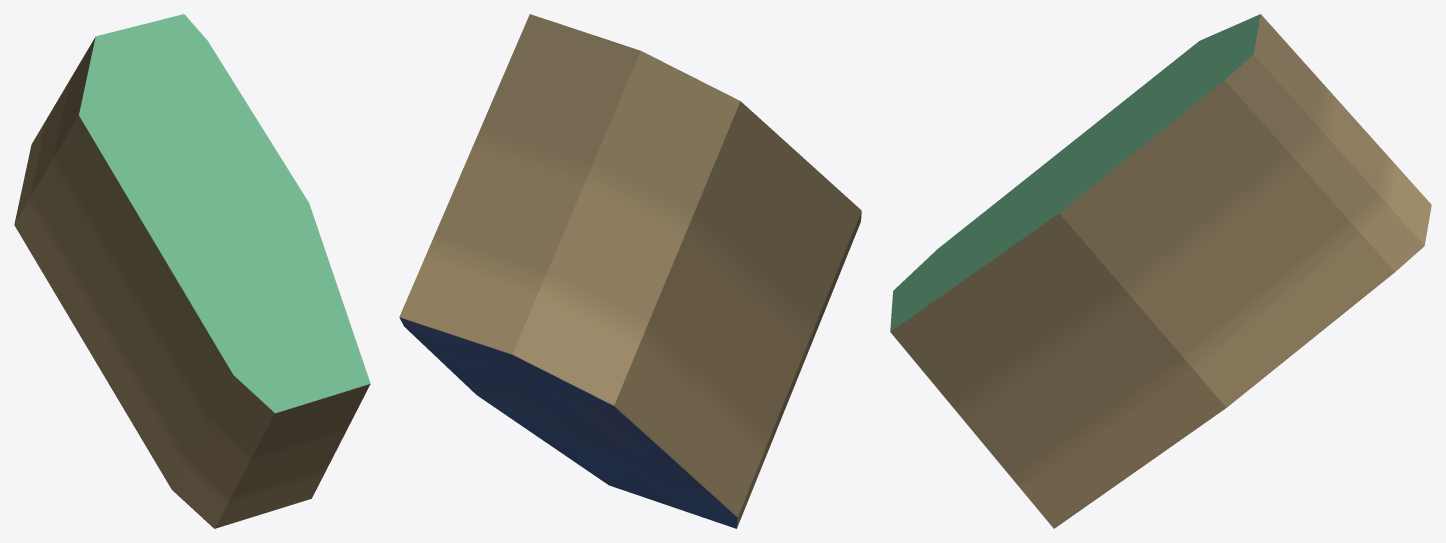
Rendered from 0685_Portugal.glb.
3 views of the same model, side by side, from view 1: azimuth 30°, elevation 25°; view 2: azimuth 150°, elevation 25°; view 3: azimuth 270°, elevation 25° (orthographic). The views are drawn at different scales.
Parts seen in each view (by area): view 1: part_0; view 2: part_0; view 3: part_0.
Boxes of the visible parts, left/top/right/bottom form: part_0: left=14, top=14, right=370, bottom=528; part_0: left=399, top=14, right=861, bottom=528; part_0: left=890, top=14, right=1431, bottom=528.
Size of the model in its own units: 0.1709 by 0.387 by 0.4086.
1 material, 1 textured.
